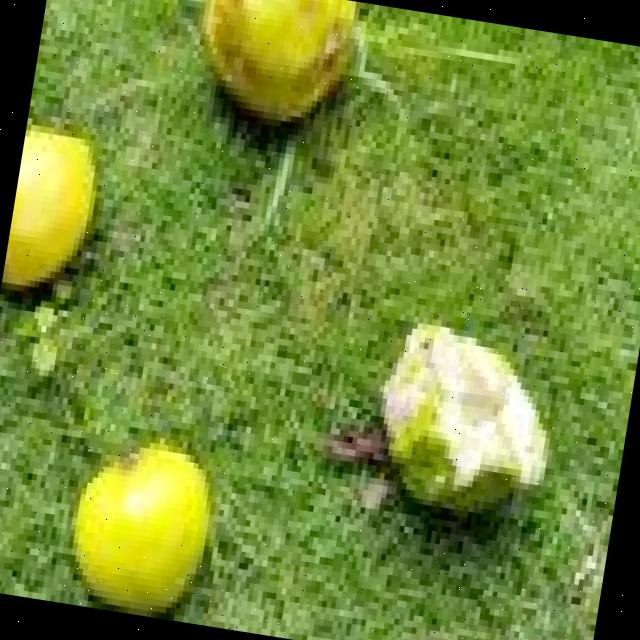Bad_Guava 0 day: (386, 328, 549, 517), (200, 0, 354, 129)
Good_Guava 5-7 days: (70, 447, 214, 619), (1, 130, 98, 299)
